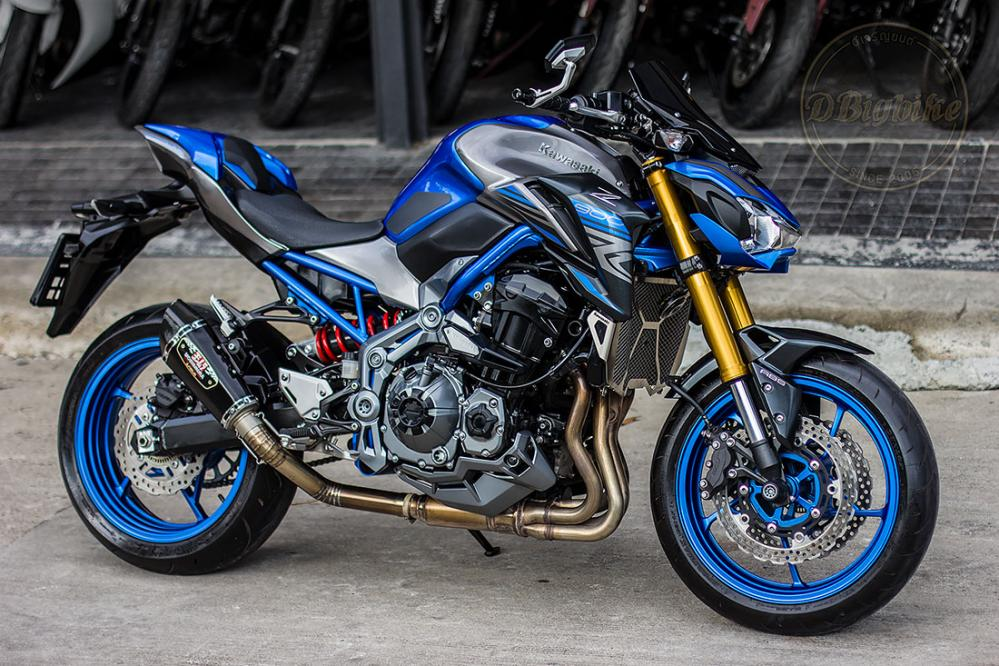motorcycle: (47, 90, 939, 628)
